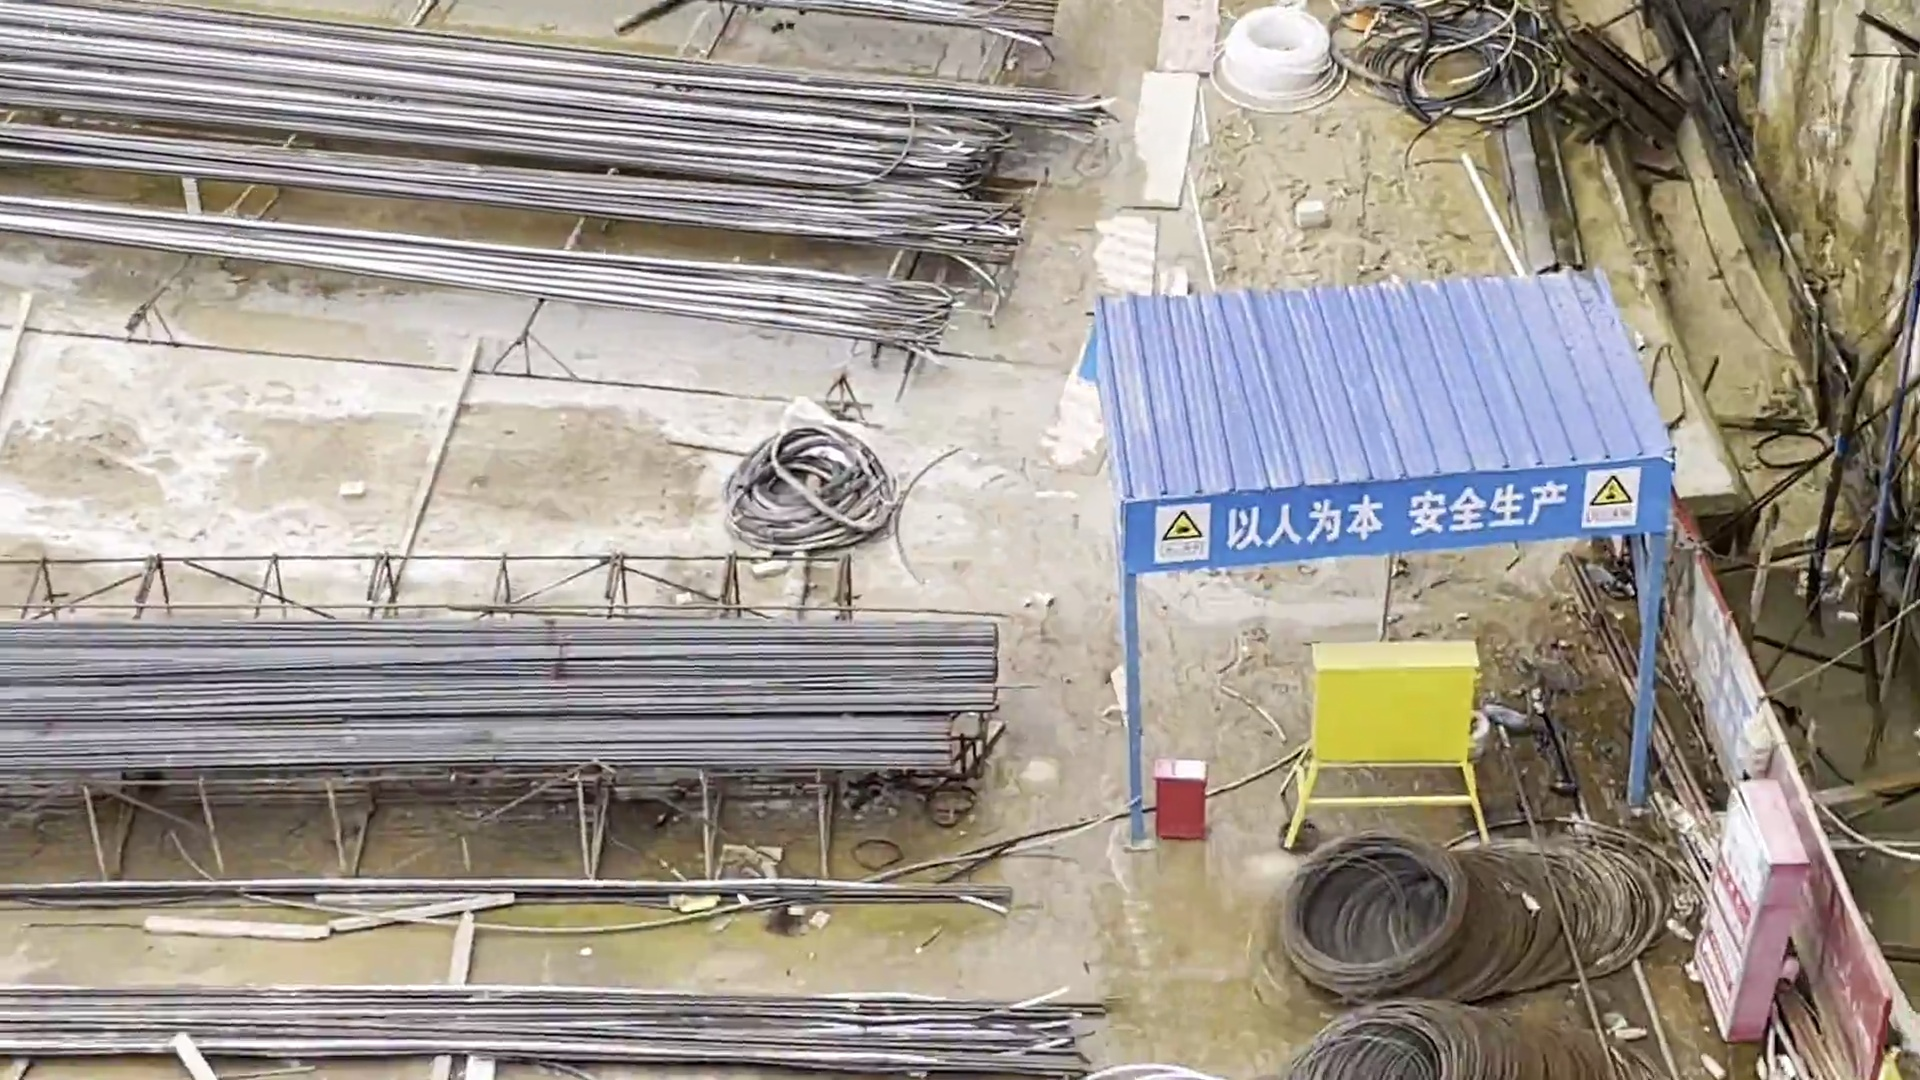ebox: (1279, 634, 1487, 841)
rebar: (117, 17, 1071, 365), (62, 613, 1006, 795), (18, 969, 1091, 1072)
slogan: (1145, 469, 1685, 563)
